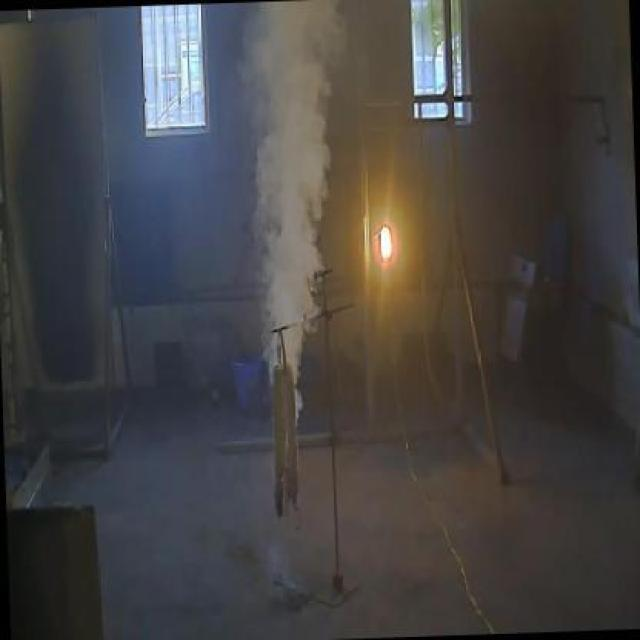fire: (231, 0, 354, 335)
